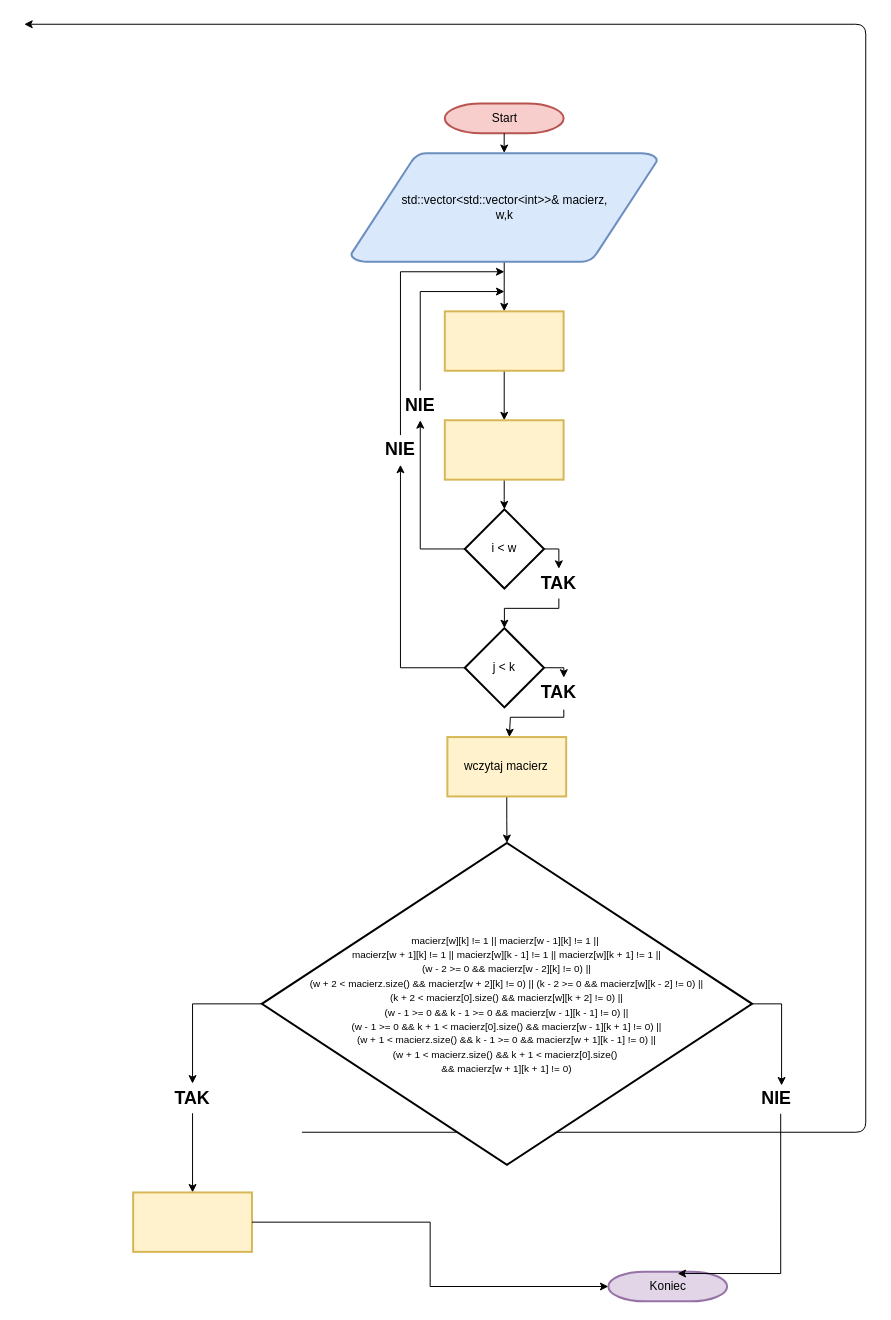
Image size: 891x1320. Some labels were removed from this diagram. The box of each missing label's shape, as (x1, y1, x2, y2) in pixels:
i=0, j=0: (443, 419, 564, 480)
licznik ++: (132, 1191, 252, 1252)
licznik = 0: (443, 310, 564, 371)
